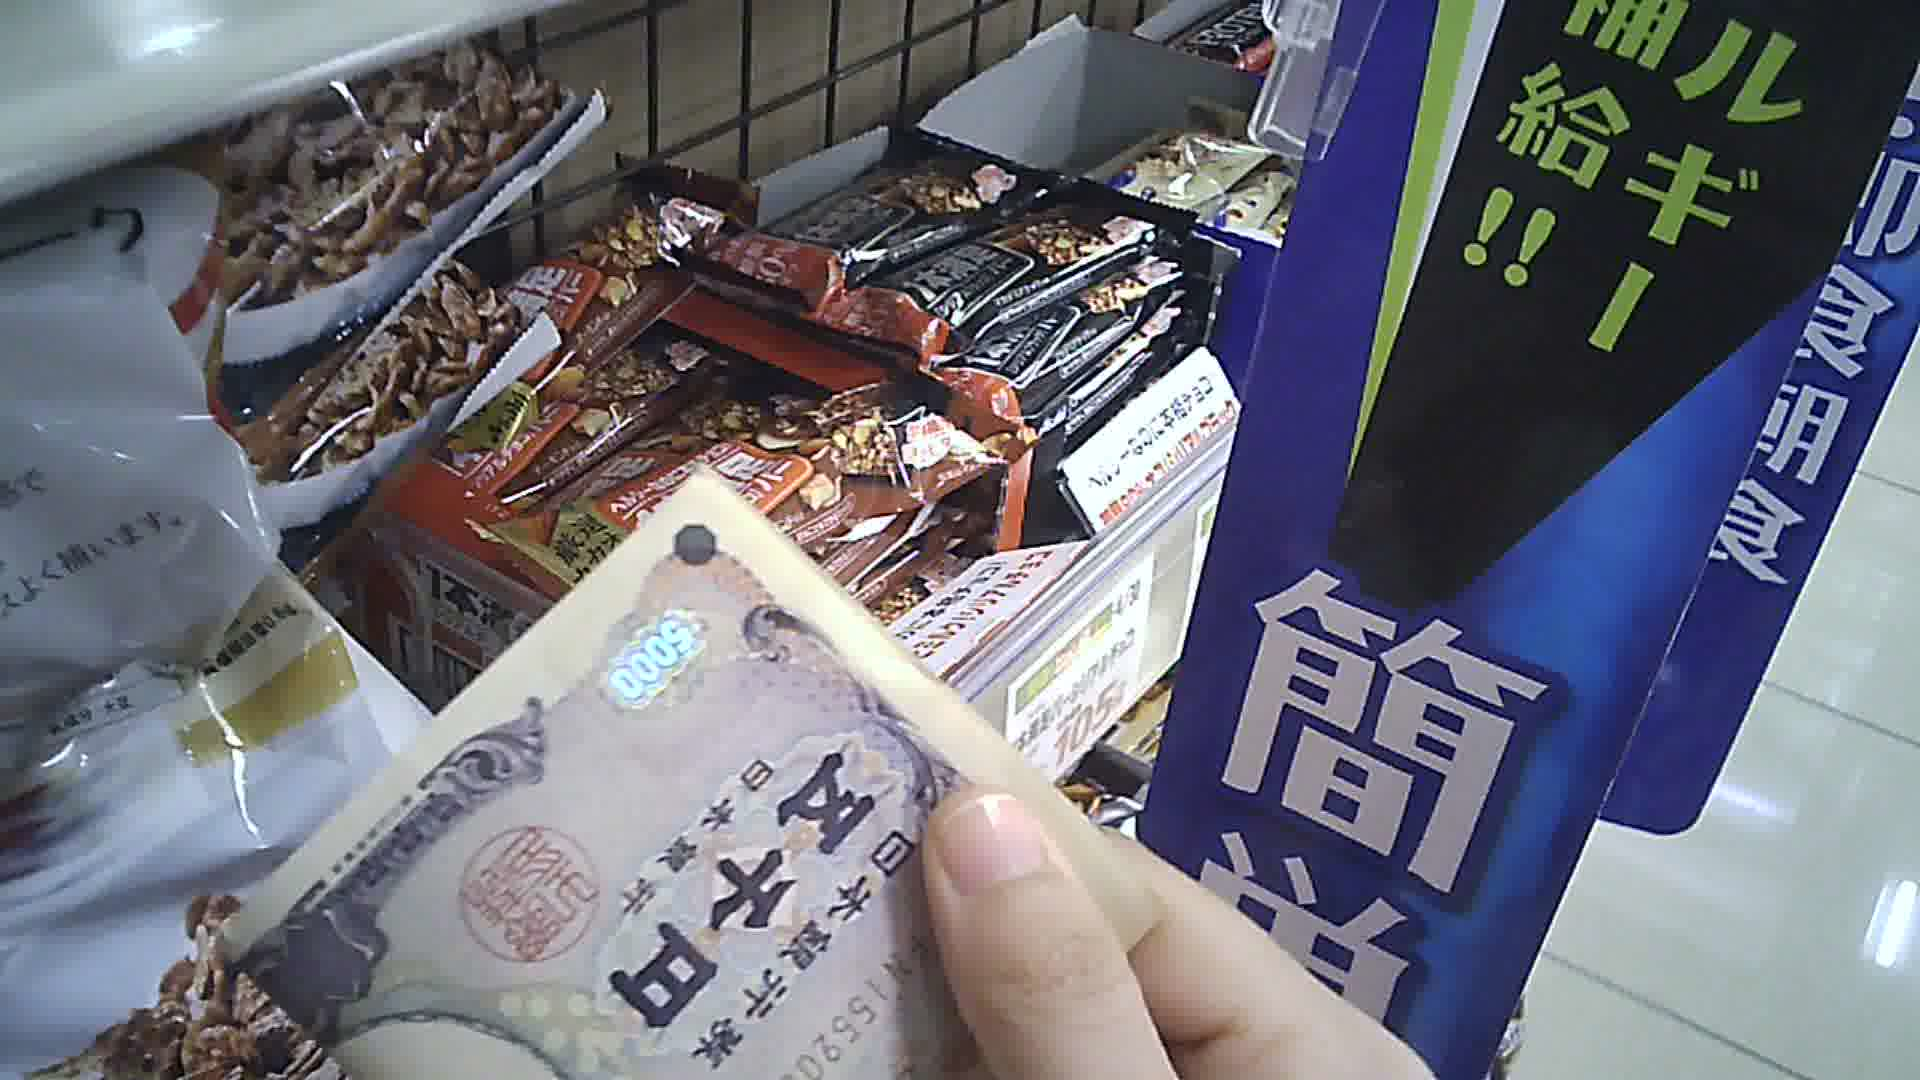5,000 Yen: (178, 433, 1100, 1065)
